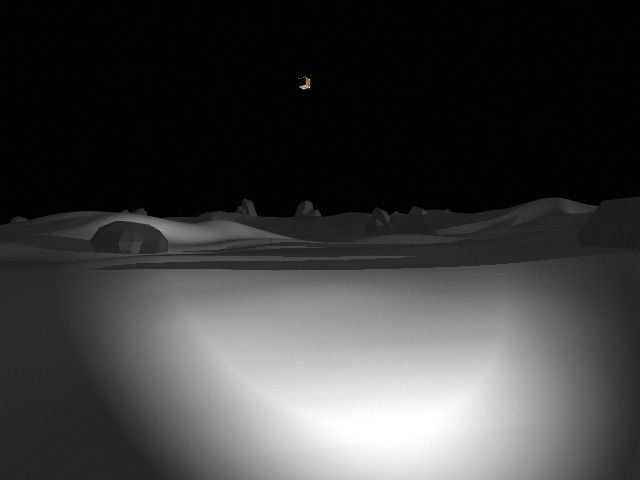cubesat: (294, 73, 314, 95)
